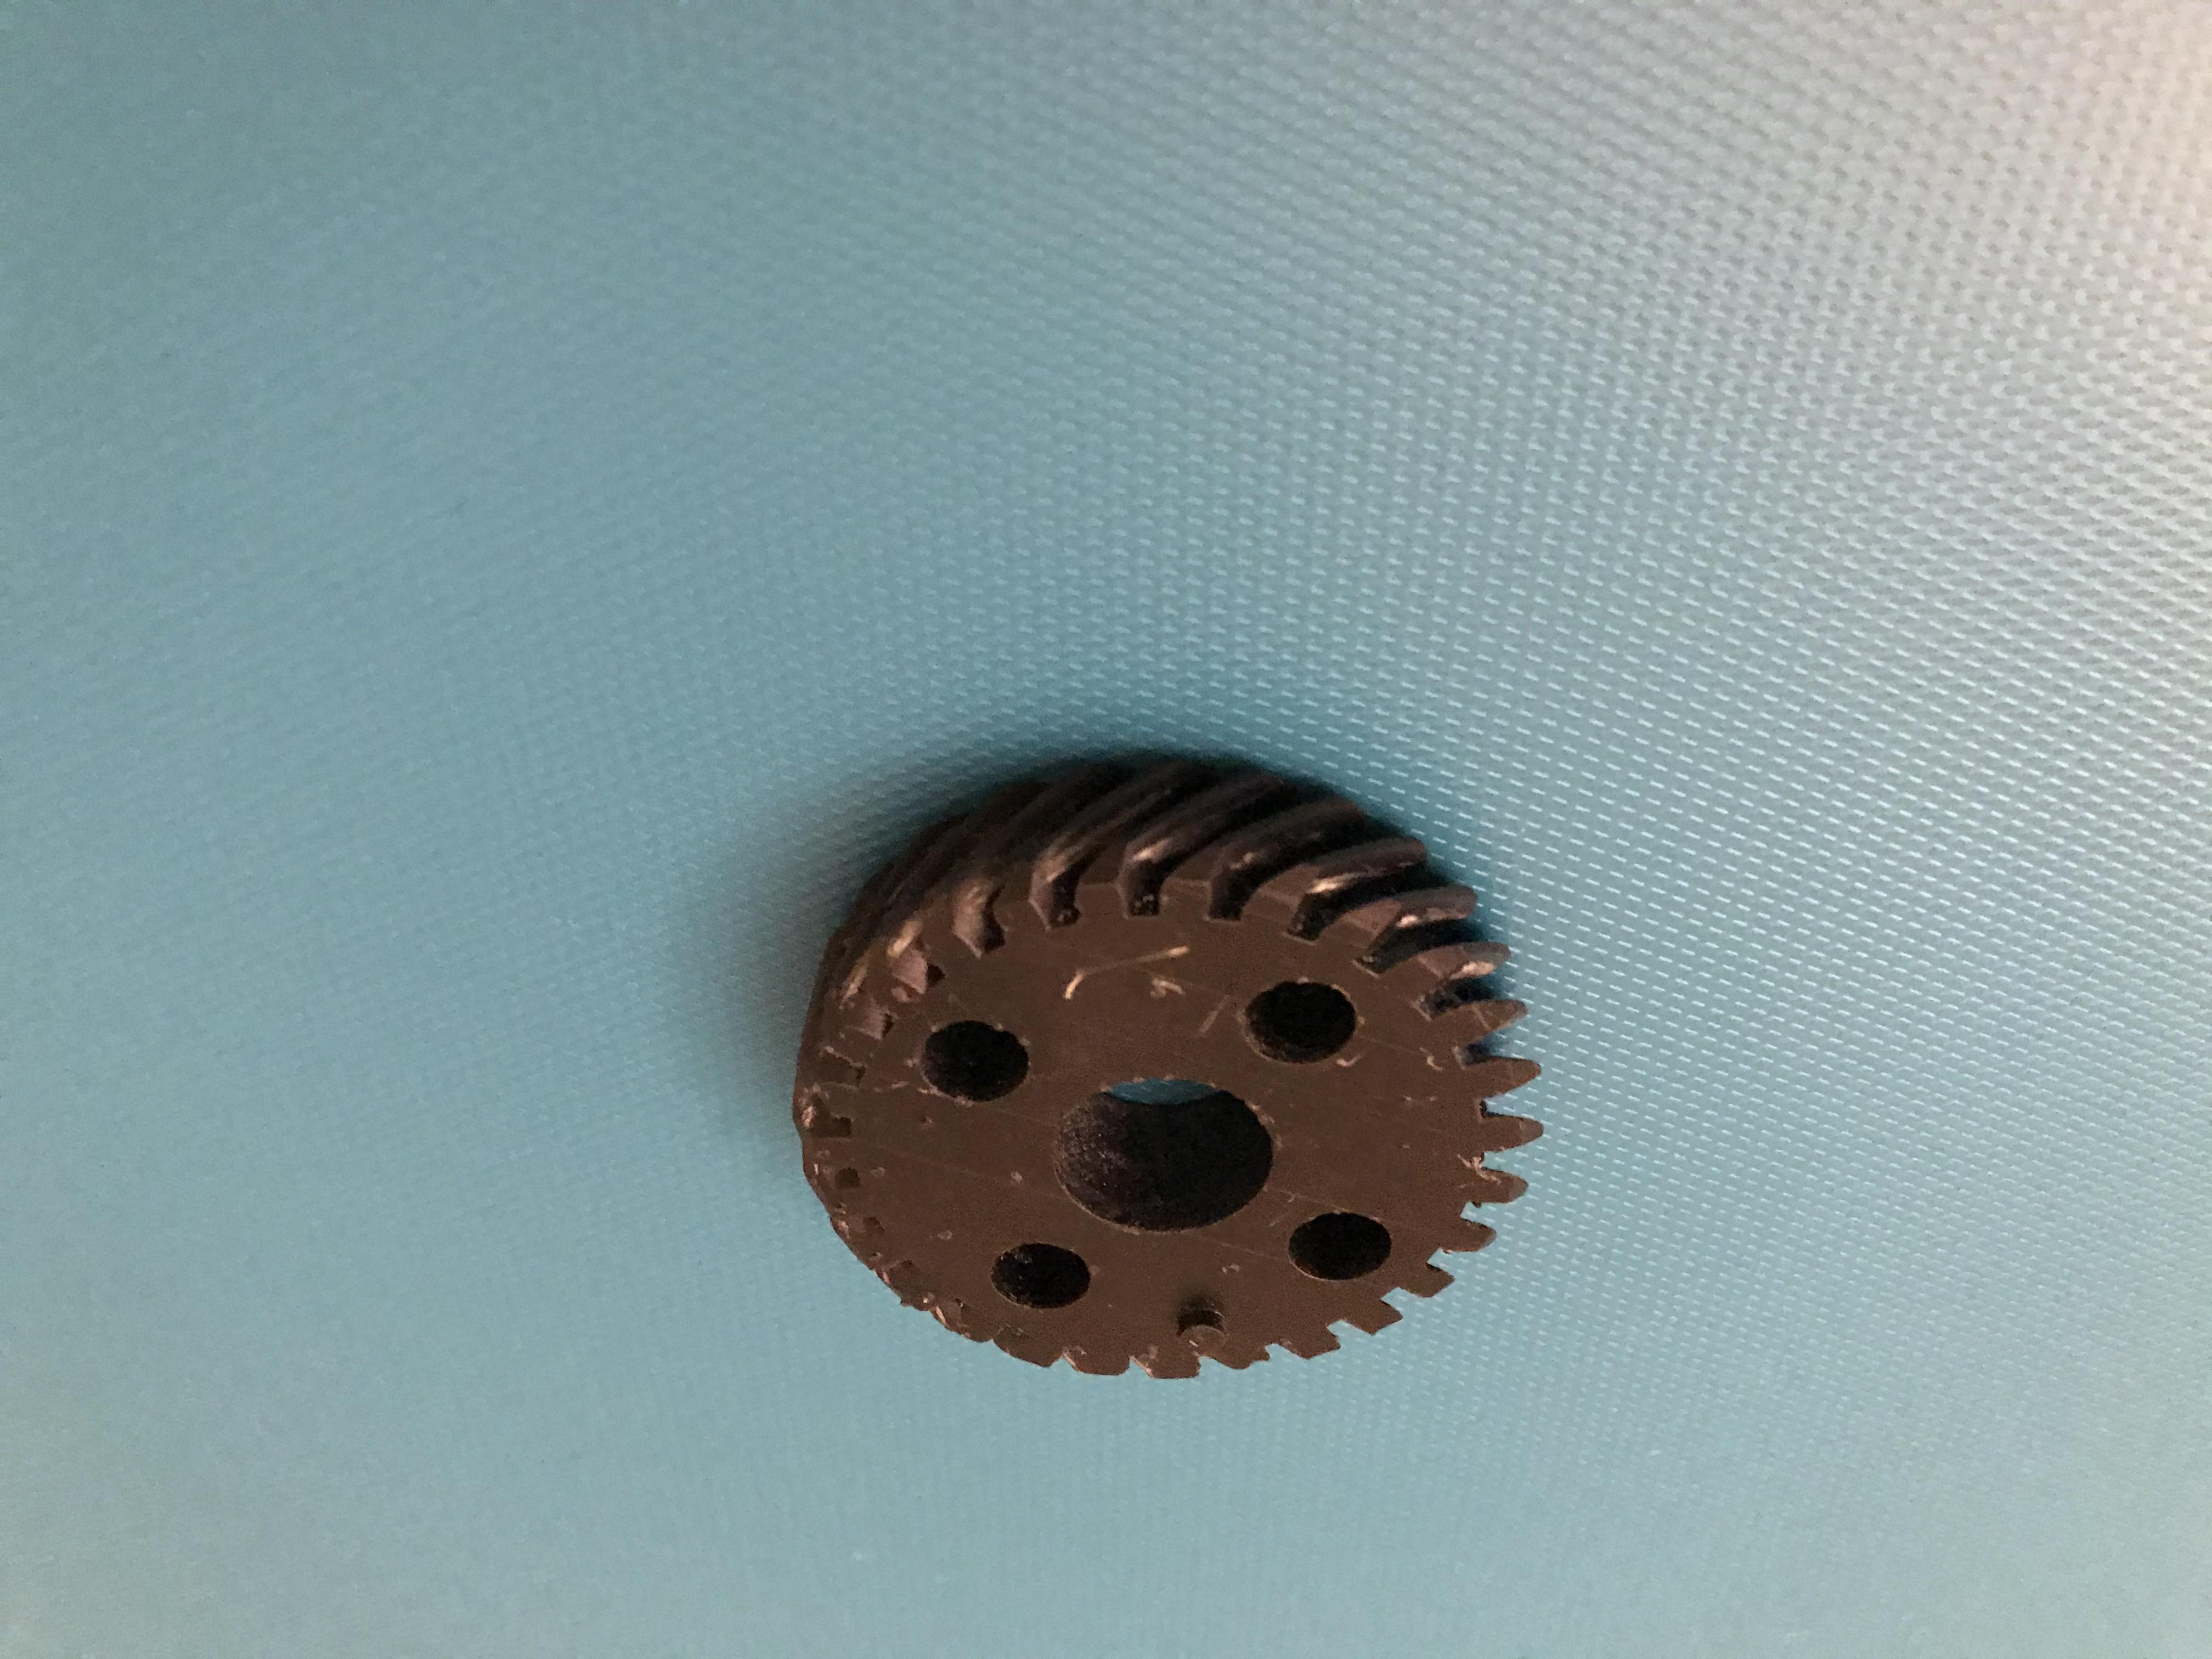Wheel: (766, 748, 1548, 1406)
